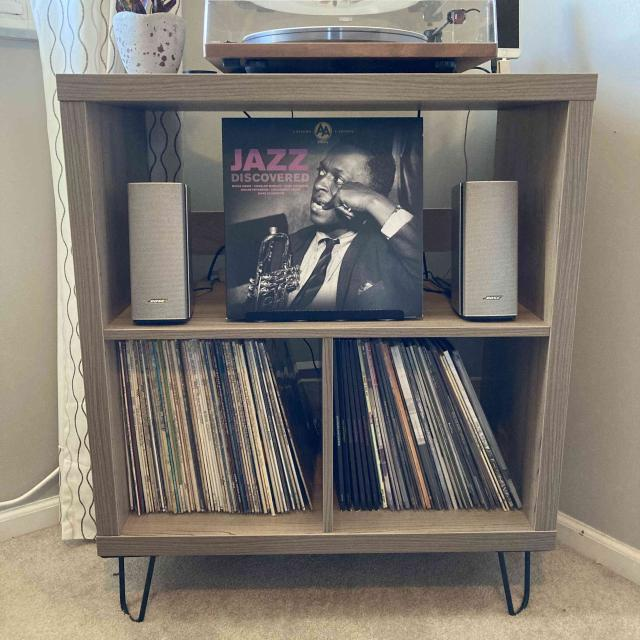Shelf: (47, 70, 605, 585)
